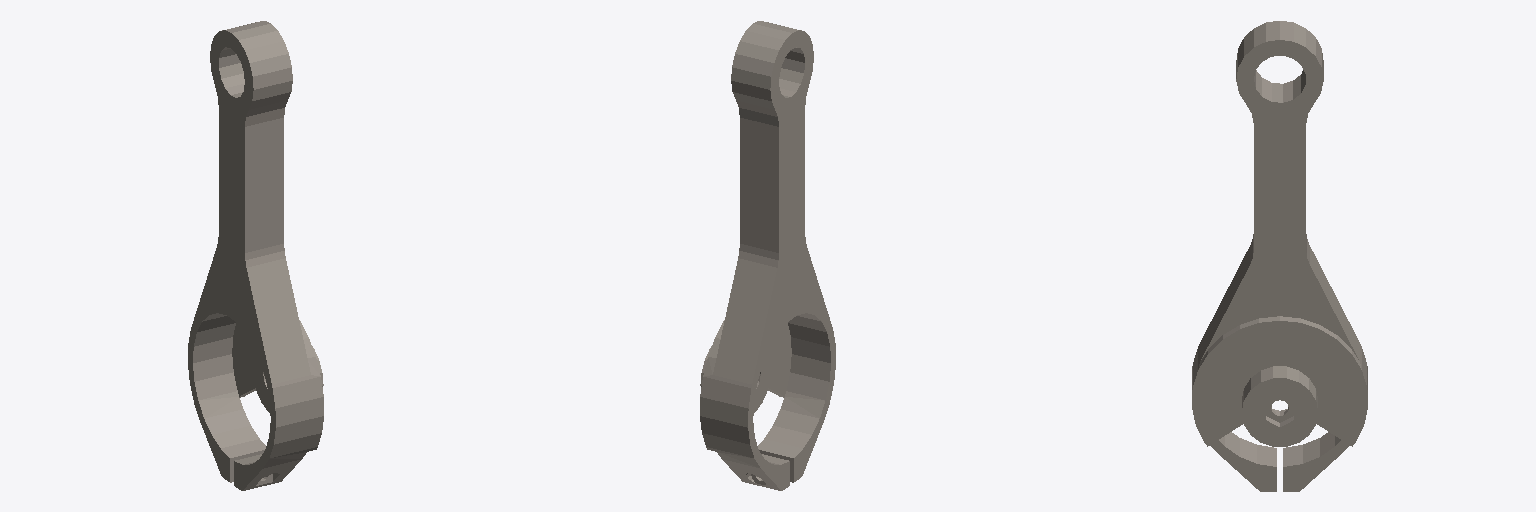
The robot description file, URDF, robot "2dof_planar":
<?xml version="1.0" encoding="utf-8"?>
<!-- This URDF was automatically created by SolidWorks to URDF Exporter! Originally created by [author] ([email redacted])
     Commit Version: 1.5.1-0-g916b5db  Build Version: 1.5.7152.31018
     For more information, please see http://wiki.ros.org/sw_urdf_exporter -->
<robot
  name="2dof_planar">
  <link
    name="base_link">
    <inertial>
      <origin
        xyz="0.0030299 2.6279E-13 0.02912"
        rpy="0 0 0" />
      <mass
        value="0.10159" />
      <inertia
        ixx="2.636E-05"
        ixy="-1.007E-16"
        ixz="-2.3835E-06"
        iyy="1.8042E-05"
        iyz="-4.6617E-09"
        izz="1.8795E-05" />
    </inertial>
    <visual>
      <origin
        xyz="0 0 0"
        rpy="0 0 0" />
      <geometry>
        <mesh
          filename="package://example-robot-data/robots/double_pendulum_description/meshes/base_link.stl" />
      </geometry>
      <material
        name="">
        <color
          rgba="0.96078 1 0 1" />
      </material>
    </visual>
    <collision>
      <origin
        xyz="0 0 0"
        rpy="0 0 0" />
      <geometry>
        <mesh
          filename="package://example-robot-data/robots/double_pendulum_description/meshes/base_link.stl" />
      </geometry>
    </collision>
  </link>
  <link
    name="link1">
    <inertial>
      <origin
        xyz="0.0086107 2.1727E-06 0.036012"
        rpy="0 0 0" />
      <mass
        value="0.26703" />
      <inertia
        ixx="0.00040827"
        ixy="1.2675E-09"
        ixz="1.8738E-05"
        iyy="0.00038791"
        iyz="3.5443E-08"
        izz="3.6421E-05" />
    </inertial>
    <visual>
      <origin
        xyz="0 0 0"
        rpy="0 0 0" />
      <geometry>
        <mesh
          filename="package://example-robot-data/robots/double_pendulum_description/meshes/link1.stl" />
      </geometry>
      <material
        name="">
        <color
          rgba="0.64706 0.61961 0.58824 1" />
      </material>
    </visual>
    <collision>
      <origin
        xyz="0 0 0"
        rpy="0 0 0" />
      <geometry>
        <mesh
          filename="package://example-robot-data/robots/double_pendulum_description/meshes/link1.stl" />
      </geometry>
    </collision>
  </link>
  <joint
    name="joint1"
    type="continuous">
    <origin
      xyz="0.0060872 0 0.035"
      rpy="0 0 0" />
    <parent
      link="base_link" />
    <child
      link="link1" />
    <axis
      xyz="1 0 0" />
    <limit
      lower="0"
      upper="0"
      effort="0"
      velocity="0" />
    <dynamics
      damping="0.05" />
  </joint>
  <link
    name="link2">
    <inertial>
      <origin
        xyz="-0.0050107 1.9371E-10 0.10088"
        rpy="0 0 0" />
      <mass
        value="0.33238" />
      <inertia
        ixx="0.0011753"
        ixy="-3.854E-13"
        ixz="-2.9304E-08"
        iyy="0.0011666"
        iyz="-5.2365E-12"
        izz="1.4553E-05" />
    </inertial>
    <visual>
      <origin
        xyz="0 0 0"
        rpy="0 0 0" />
      <geometry>
        <mesh
          filename="package://example-robot-data/robots/double_pendulum_description/meshes/link2.stl" />
      </geometry>
      <material
        name="">
        <color
          rgba="0.64706 0.61961 0.58824 1" />
      </material>
    </visual>
    <collision>
      <origin
        xyz="0 0 0"
        rpy="0 0 0" />
      <geometry>
        <mesh
          filename="package://example-robot-data/robots/double_pendulum_description/meshes/link2.stl" />
      </geometry>
    </collision>
  </link>
  <joint
    name="joint2"
    type="continuous">
    <origin
      xyz="0.023 0 0.1"
      rpy="0 0 0" />
    <parent
      link="link1" />
    <child
      link="link2" />
    <axis
      xyz="1 0 0" />
    <limit
      lower="0"
      upper="0"
      effort="0"
      velocity="0" />
    <dynamics
      damping="0.05" />
  </joint>
</robot>

--- Facts derived from the render (not from the file) ---
3 views of the same robot in one strip: view 1: azimuth 30°, elevation 25°; view 2: azimuth 150°, elevation 25°; view 3: azimuth 270°, elevation 25° (orthographic).
Robot: 2dof_planar — 3 links, 2 joints (2 continuous); root link base_link; default pose: all joints at 0.
Links seen in each view (by area): view 1: link1; view 2: link1; view 3: link1.
Link boxes in pixels (x1=…): link1: x1=188, y1=21, x2=323, y2=490; link1: x1=700, y1=21, x2=835, y2=490; link1: x1=1192, y1=21, x2=1367, y2=491.
Bounding box of the posed robot: 0.024 × 0.0504 × 0.1425 m (x, y, z).
Meshes: 3 distinct files referenced, 1 mesh visuals loaded (1 binary STL); not drawn: 2 (reference not matched to a file when rendering).